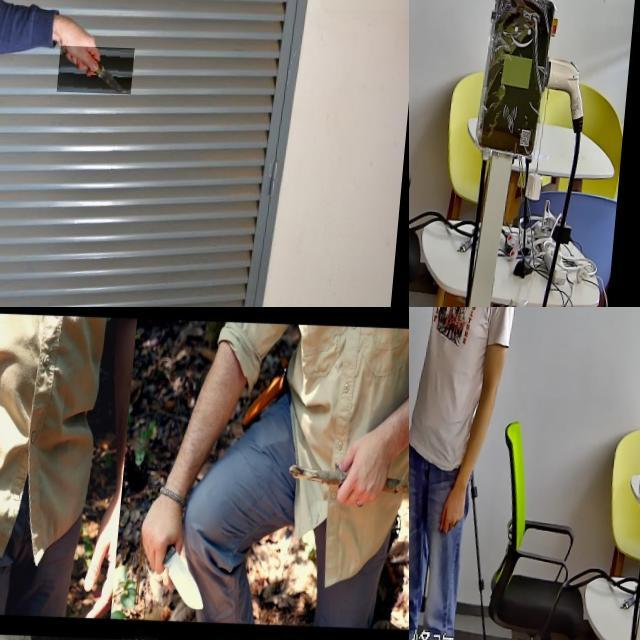-: (142, 520, 215, 611), (0, 431, 39, 555), (64, 44, 140, 92)
gun-knife-thesis - v11 Yolov5 augmented: (409, 307, 434, 341), (409, 0, 432, 34)
